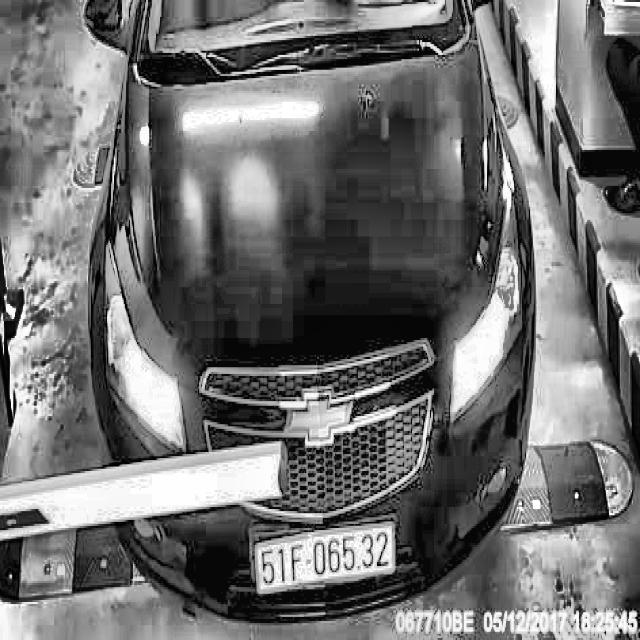plate: (251, 511, 402, 597)
